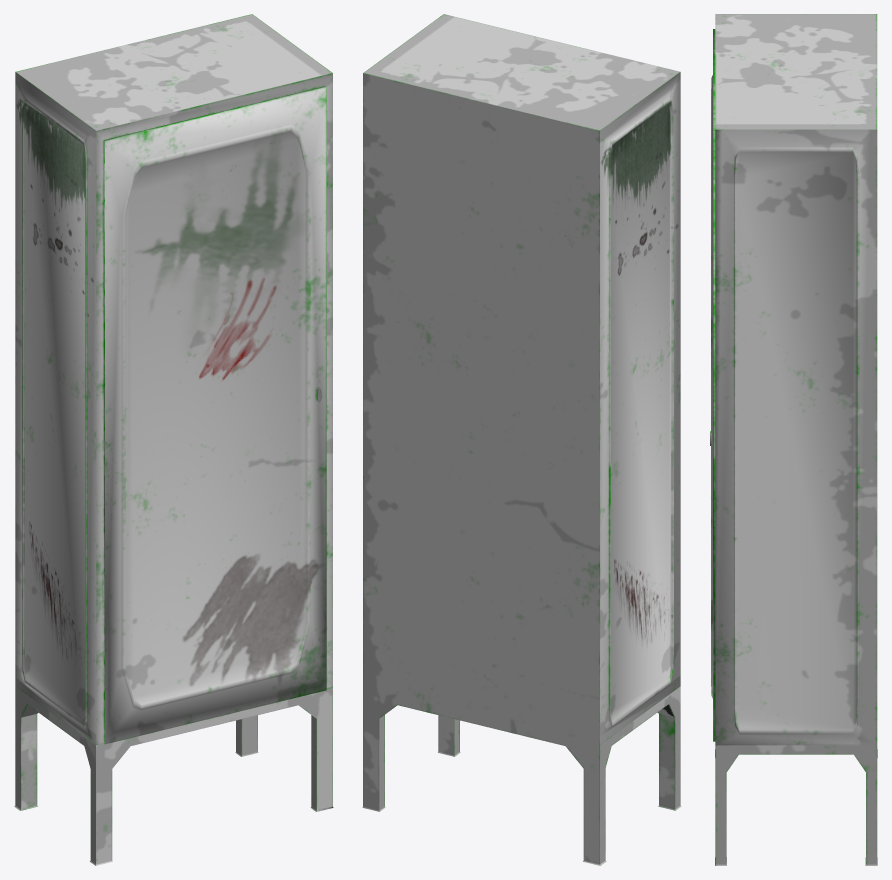
File: szafka1Rentgen.glb
3 renders of one model, left to right at view 1: azimuth 30°, elevation 25°; view 2: azimuth 150°, elevation 25°; view 3: azimuth 270°, elevation 25°, orthographic.
Visible parts, largest first — view 1: Cube.130; view 2: Cube.130; view 3: Cube.130.
Boxes of the visible parts, box(x1,y1,x2,y2) form: Cube.130: box(14, 14, 333, 865); Cube.130: box(362, 14, 681, 865); Cube.130: box(710, 14, 877, 865).
Size of the model in its own units: 0.6162 by 1.8 by 0.3724.
1 material, 1 textured.
